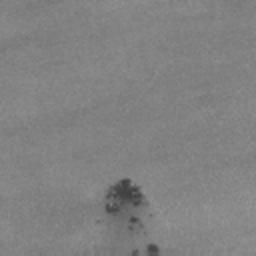Iron sheet ash: (106, 178, 149, 207), (128, 216, 144, 232), (105, 204, 120, 216), (147, 243, 159, 256)
